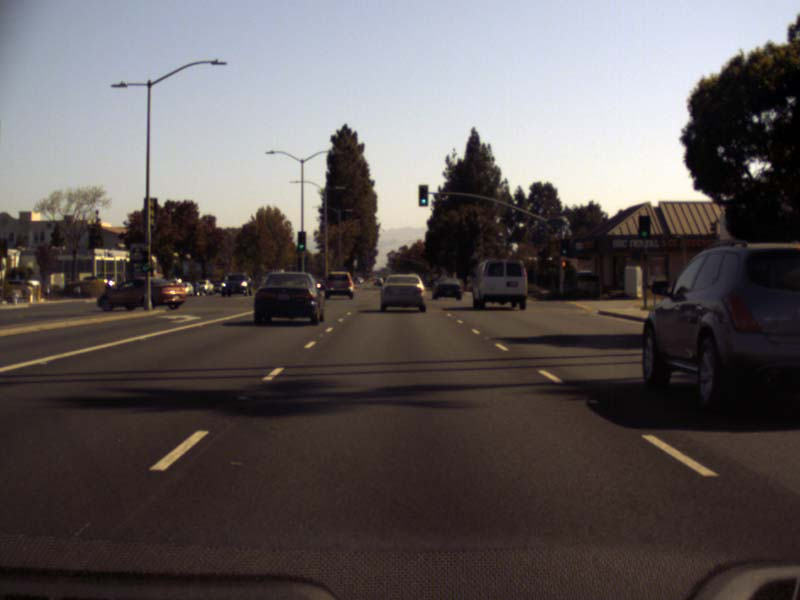Green: (640, 217, 648, 237), (419, 186, 426, 205), (298, 233, 304, 249), (561, 240, 567, 254), (141, 264, 148, 271)
Red: (561, 261, 566, 267)
